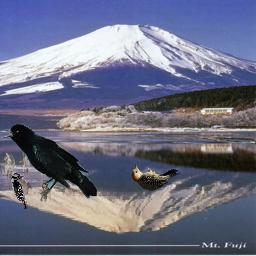Crow: (0, 124, 97, 202)
Woodpecker: (127, 160, 183, 191), (11, 173, 32, 209)
